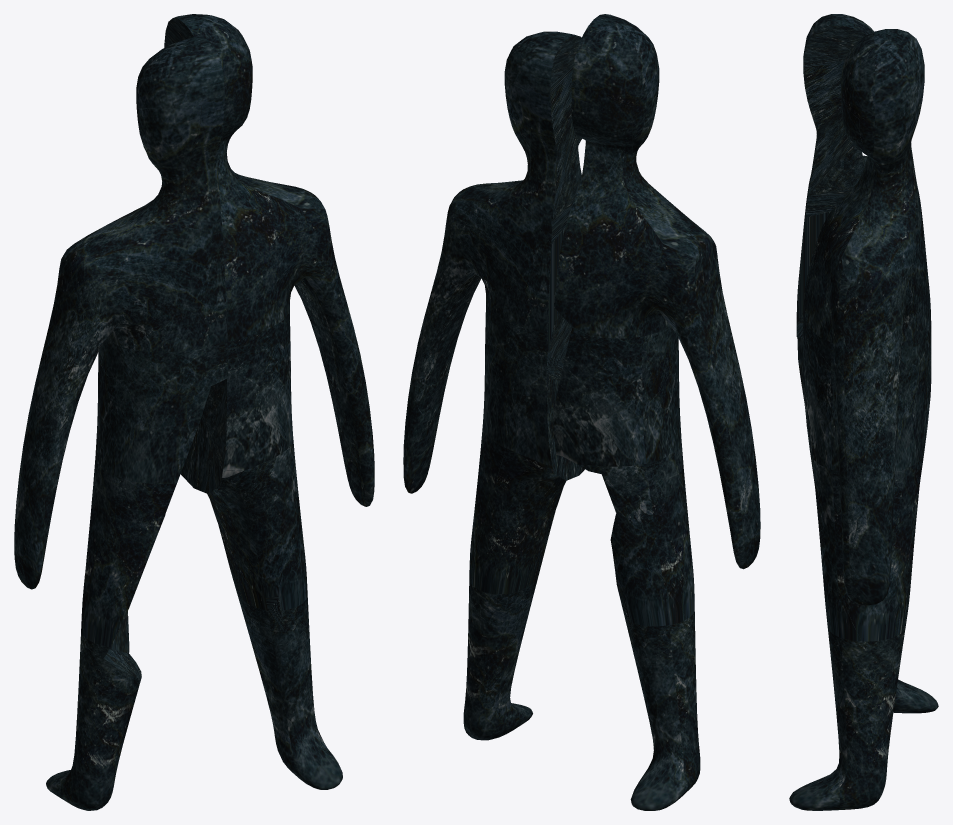
Rendered from humanoid_shattered.fbx.
3 renders of one model, left to right at view 1: azimuth 30°, elevation 25°; view 2: azimuth 150°, elevation 25°; view 3: azimuth 270°, elevation 25°, orthographic. The views are drawn at different scales.
Parts seen in each view (by area): view 1: Cube_cell.023, Cube_cell.024, Cube_cell.004, Cube_cell.022, Cube_cell.010, Cube_cell.007, Cube_cell.005, Cube_cell.015, Cube_cell.020, Cube_cell.013, Cube_cell.027, Cube_cell.006 (+9 smaller); view 2: Cube_cell.023, Cube_cell.004, Cube_cell.010, Cube_cell.024, Cube_cell.021, Cube_cell.022, Cube_cell.017, Cube_cell.005, Cube_cell.012, Cube_cell.020, Cube_cell.006, Cube_cell.003 (+9 smaller); view 3: Cube_cell.004, Cube_cell.003, Cube_cell.005, Cube_cell.014, Cube_cell.006, Cube_cell.008, Cube_cell.016, Cube_cell, Cube_cell.007, Cube_cell.015, Cube_cell.020, Cube_cell.017 (+4 smaller).
Boxes of the visible parts, x1,y1,x2,y2 form: Cube_cell.023: (46,188,227,386); Cube_cell.024: (82,377,210,657); Cube_cell.004: (219,161,342,338); Cube_cell.022: (46,646,141,810); Cube_cell.010: (180,413,277,634); Cube_cell.007: (212,330,290,471); Cube_cell.005: (248,619,342,789); Cube_cell.015: (259,503,308,644); Cube_cell.020: (136,36,224,108); Cube_cell.013: (14,426,54,589); Cube_cell.027: (136,106,201,229); Cube_cell.006: (160,86,224,250); Cube_cell.023: (554,171,732,364); Cube_cell.004: (431,179,572,367); Cube_cell.010: (469,361,584,626); Cube_cell.024: (601,344,694,624); Cube_cell.021: (553,327,645,473); Cube_cell.022: (630,621,700,810); Cube_cell.017: (529,65,581,243); Cube_cell.005: (463,594,532,740); Cube_cell.012: (610,513,689,658); Cube_cell.020: (573,14,659,106); Cube_cell.006: (571,64,633,207); Cube_cell.003: (469,336,531,588); Cube_cell.004: (805,187,931,384); Cube_cell.003: (813,353,930,650); Cube_cell.005: (789,649,900,810); Cube_cell.014: (840,439,894,605); Cube_cell.006: (803,56,865,217); Cube_cell.008: (842,29,924,118); Cube_cell.016: (834,364,898,485); Cube_cell: (859,86,923,208); Cube_cell.007: (803,311,834,464); Cube_cell.015: (817,511,865,662); Cube_cell.020: (803,14,873,57); Cube_cell.017: (841,61,924,216).
Size of the model in its own units: 310 by 641 by 118.
